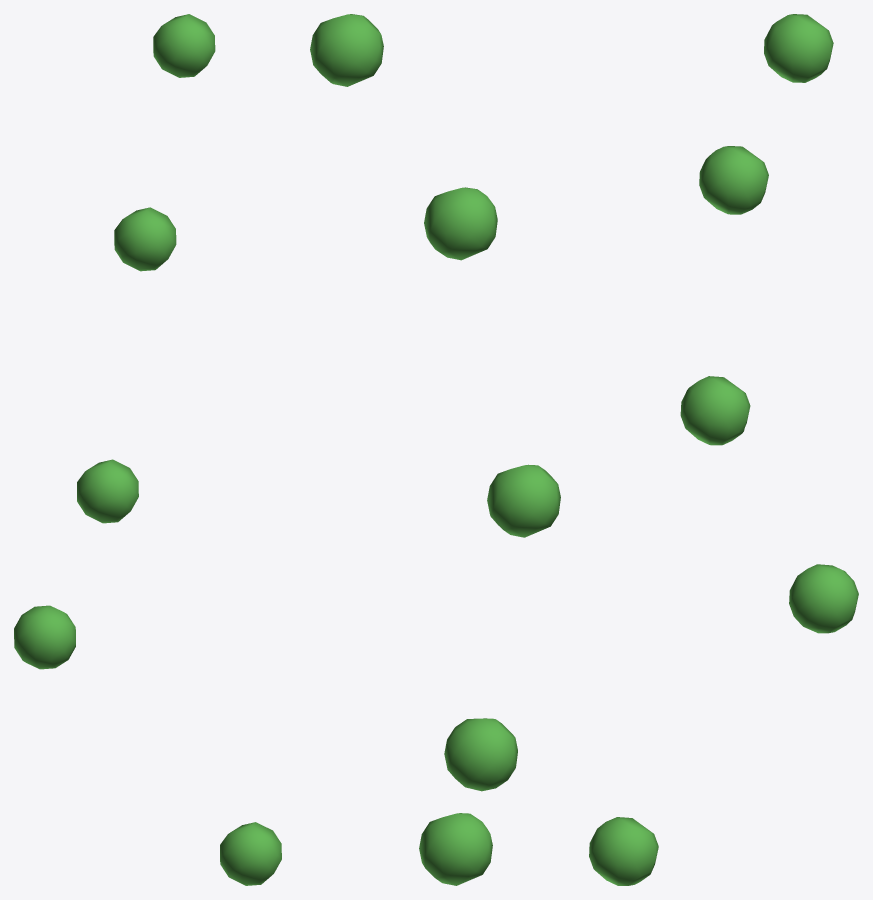
File: linfatico-lateral-superior-jugular-node-r.glb
3 renders of one model, left to right at view 1: azimuth 30°, elevation 25°; view 2: azimuth 150°, elevation 25°; view 3: azimuth 270°, elevation 25°, orthographic. The views are drawn at different scales.
Parts seen in each view (by area): view 1: Lateral superior jugular node.r; view 2: Lateral superior jugular node.r; view 3: Lateral superior jugular node.r.
Part boxes in pixels (<box>): Lateral superior jugular node.r: <box>14,14,281,885</box>; Lateral superior jugular node.r: <box>310,14,560,885</box>; Lateral superior jugular node.r: <box>589,14,858,885</box>.
Bounding box in the file's own units: 0.00845 × 0.0355 × 0.00993.
